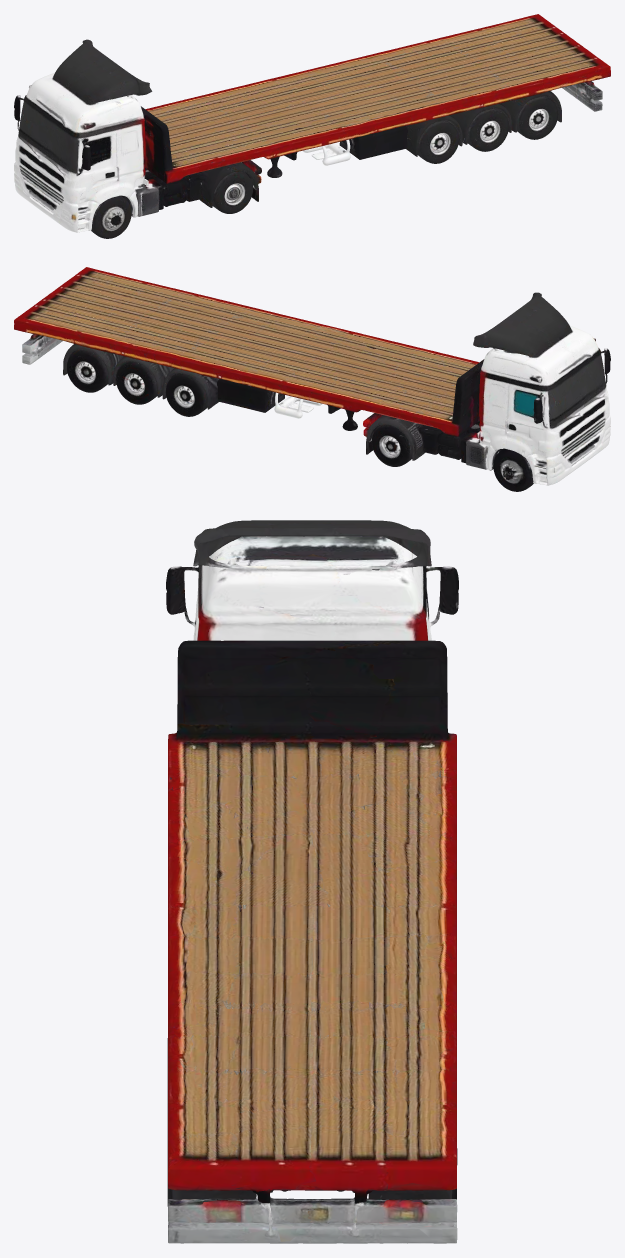
Rendered from tanker-1.glb.
3 views of the same model, one above another, from view 1: azimuth 30°, elevation 25°; view 2: azimuth 150°, elevation 25°; view 3: azimuth 270°, elevation 25° (orthographic). The views are drawn at different scales.
Bounding box in the file's own units: 1.9 × 0.5151 × 0.4516.
Materials: 1 (1 with a texture image).
